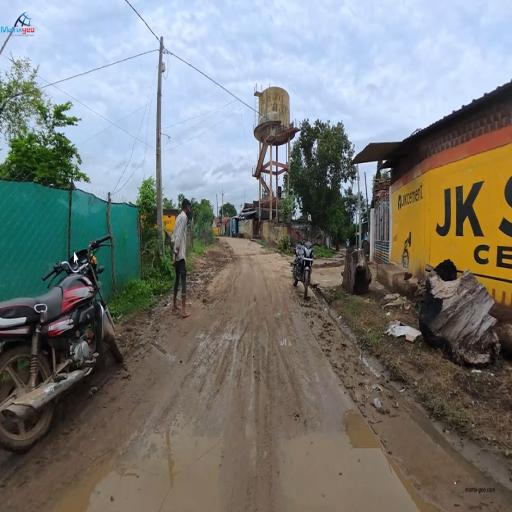drainage_issue: (309, 287, 338, 314)
